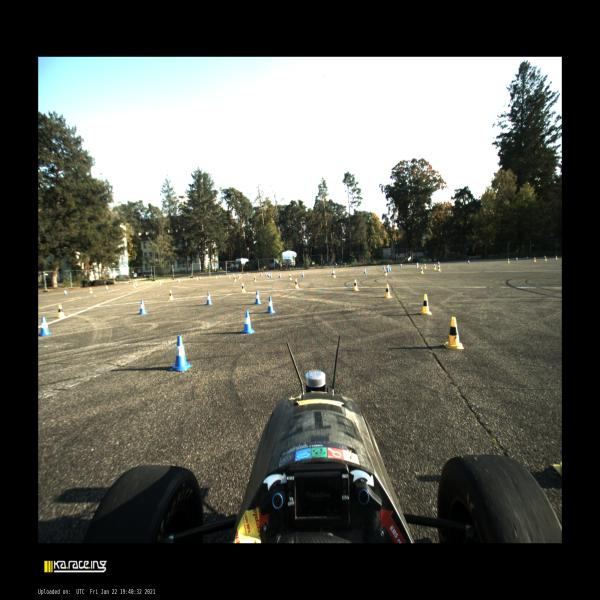blue_cone: (169, 335, 193, 372), (241, 310, 255, 334), (38, 317, 52, 336), (266, 296, 276, 314), (139, 300, 148, 315), (255, 291, 262, 304), (206, 293, 212, 305), (387, 267, 390, 273), (269, 273, 272, 278), (64, 290, 67, 295), (383, 264, 385, 270), (389, 266, 391, 272), (364, 268, 366, 274), (332, 269, 334, 275), (302, 272, 304, 277), (279, 273, 281, 278), (106, 285, 108, 290), (136, 282, 138, 287), (526, 256, 528, 260), (516, 256, 518, 260), (438, 261, 440, 265), (400, 263, 402, 267), (260, 272, 262, 276), (199, 276, 201, 280), (468, 260, 470, 263), (219, 275, 221, 278), (544, 254, 545, 258), (387, 266, 388, 270), (268, 273, 269, 277), (388, 264, 389, 267), (267, 273, 268, 276), (265, 273, 266, 276), (247, 273, 248, 276)
yellow_cone: (444, 317, 463, 349), (420, 294, 431, 314), (384, 284, 392, 298), (58, 304, 66, 318), (168, 290, 175, 300), (354, 279, 359, 291), (241, 283, 246, 293), (295, 279, 299, 289), (420, 267, 424, 274), (438, 265, 441, 272), (289, 274, 292, 280), (333, 272, 336, 278), (507, 258, 510, 264), (385, 268, 387, 276), (133, 283, 136, 288), (424, 264, 427, 269), (555, 255, 558, 260), (234, 276, 236, 282), (238, 274, 240, 280), (254, 276, 256, 282), (434, 264, 436, 270), (90, 288, 92, 293), (416, 263, 418, 268), (534, 257, 536, 262), (545, 256, 547, 261), (159, 281, 161, 285), (196, 276, 198, 280), (240, 274, 242, 278), (216, 275, 217, 278), (229, 275, 230, 278)
